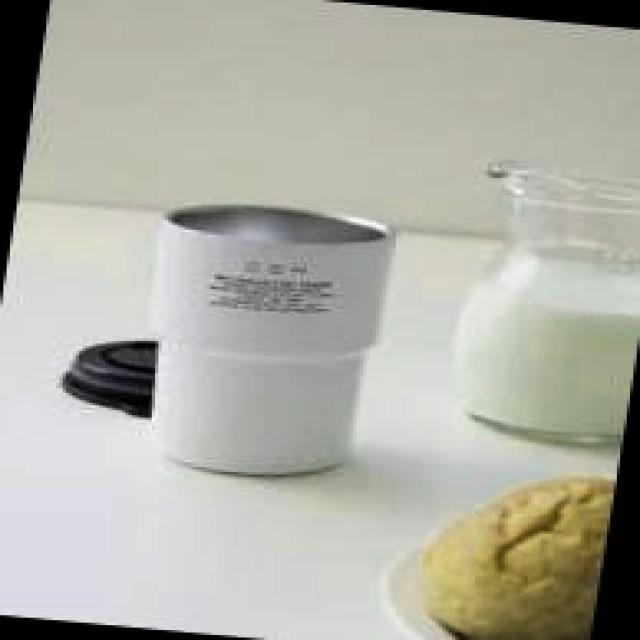bottle: (122, 190, 399, 484)
